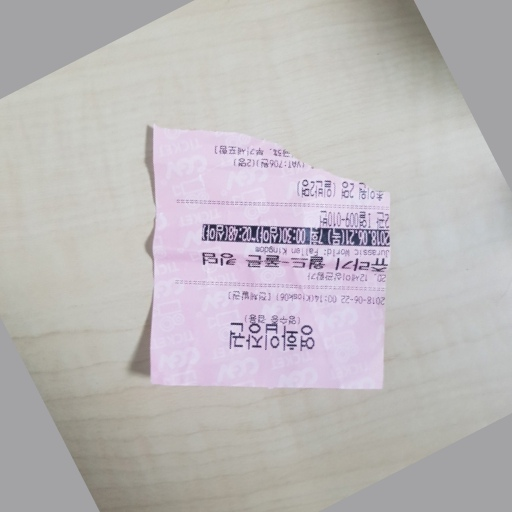Paper_2: (142, 123, 404, 402)
